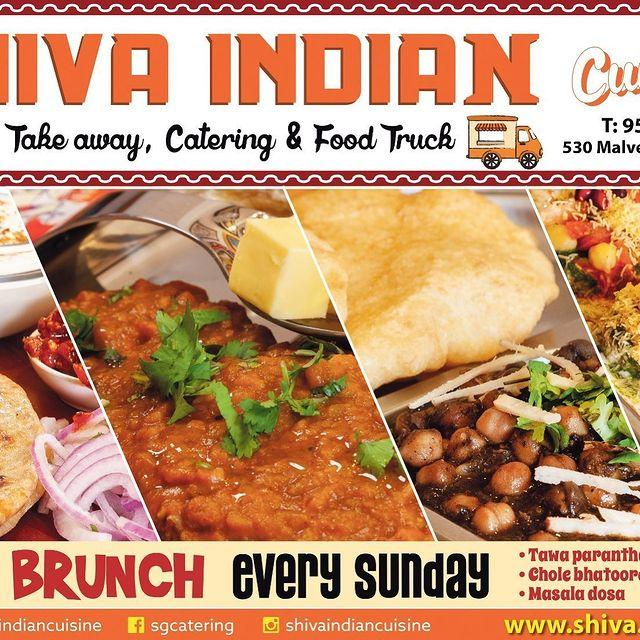Chole: (406, 402, 601, 538)
